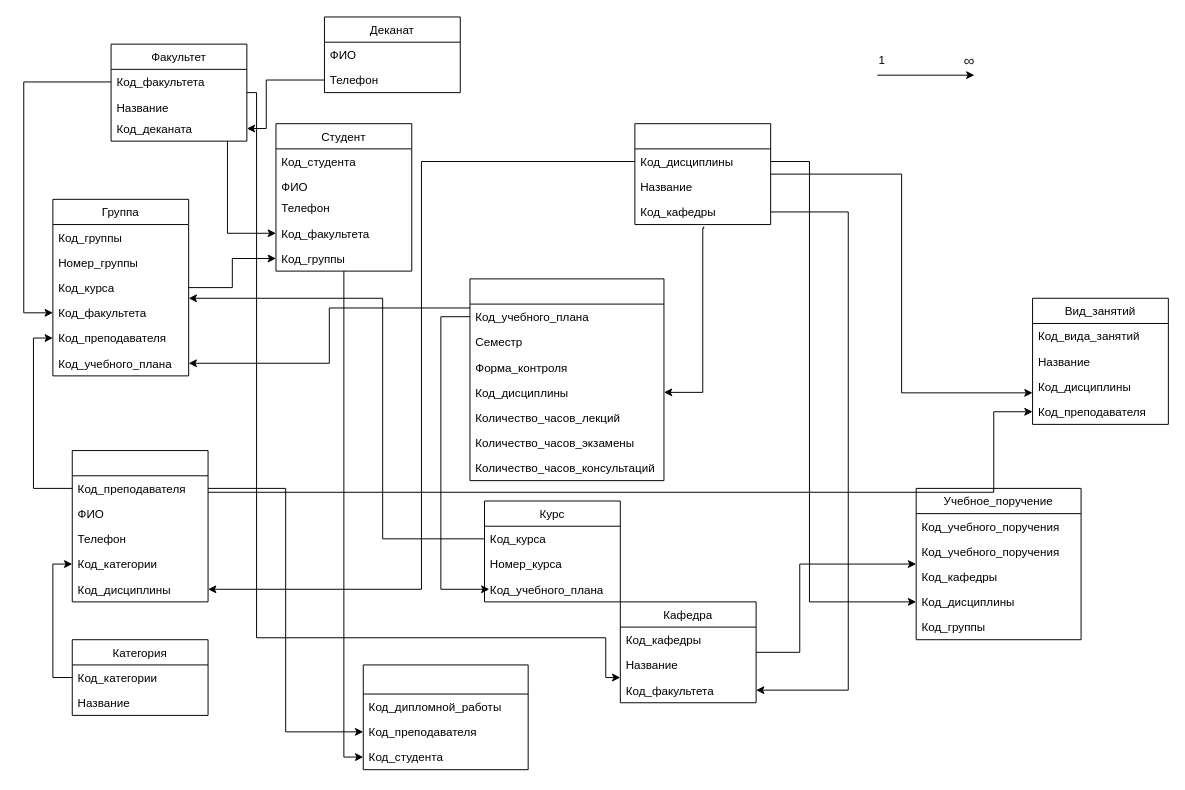
Some shapes in this 1185 by 790 pixel diagram are drawn without their labels. Each missing label, with the box of its shape:
Дипломная_работа: (362, 664, 528, 770)
Дисциплина: (634, 123, 771, 225)
Преподаватель: (71, 450, 208, 602)
Учебный_план: (469, 278, 664, 481)
